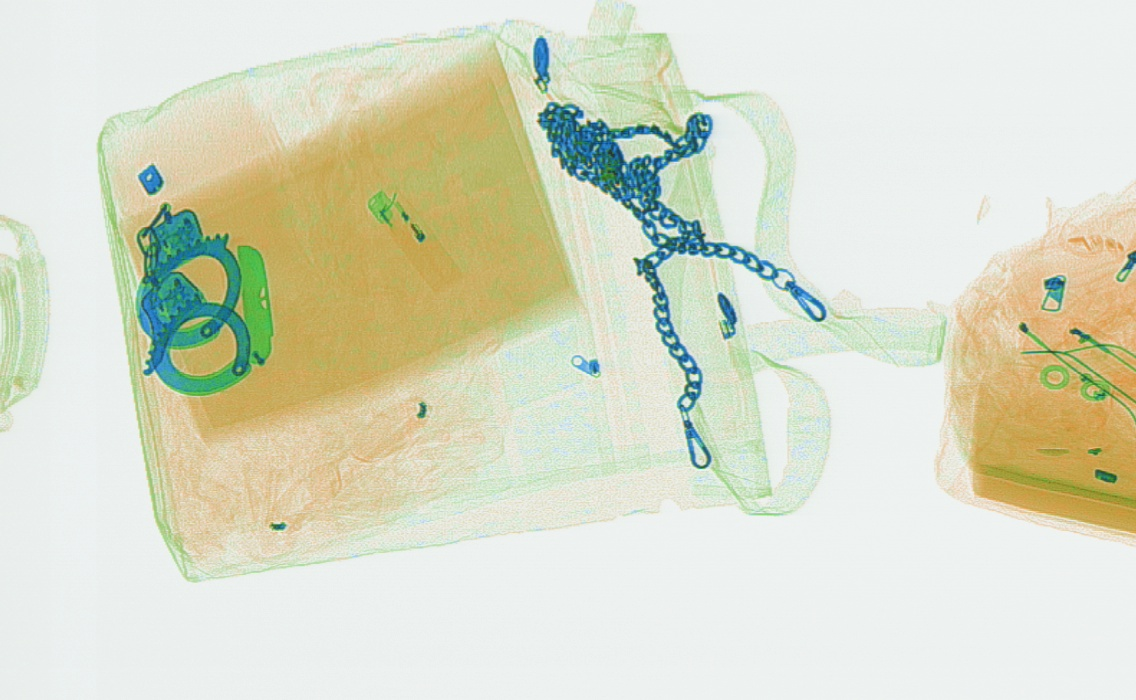handcuffs: (127, 200, 255, 398)
knife: (231, 241, 274, 369)
lighter: (363, 180, 462, 293)
